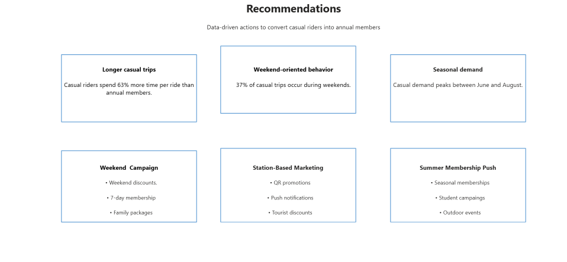

This screenshot's page, from the dashboard's own definition file:
{"tool":"powerbi","page":{"name":"Recommendations","canvas":[1280,720],"ordinal":3},"visuals":[{"type":"textbox","box":[287.9,0,727.7,89],"z":0},{"type":"textbox","box":[501.3,142.7,300.4,111.9],"z":1000},{"type":"textbox","box":[865.1,142.7,300.4,111.9],"z":2000},{"type":"textbox","box":[138.1,142.7,299.7,111.9],"z":3000},{"type":"textbox","box":[489.5,359.9,300.4,130.9],"z":3001},{"type":"textbox","box":[865.1,359.9,300.4,130.9],"z":3002},{"type":"textbox","box":[138.1,359.9,299.7,130.9],"z":3003},{"type":"shape","box":[138.1,123.7,299.7,149.9],"z":3004},{"type":"shape","box":[490.1,331.1,299.7,164.3],"z":3005},{"type":"shape","box":[138.1,336.4,299.7,159],"z":3006},{"type":"shape","box":[490.1,123.7,299.7,149.9],"z":3007},{"type":"shape","box":[865.8,123.7,299.7,149.9],"z":3008},{"type":"shape","box":[865.8,331.1,299.7,164.3],"z":3009}]}

Visuals, with their boxes on the page's 1280x720 design canvas (x1, y1, x2, y2). These are canvas units, not pixel positions in the 567x262 screenshot, which may show the page scaled, cropped or inside an application window:
textbox: crop(288, 0, 1016, 89)
textbox: crop(501, 143, 802, 255)
textbox: crop(865, 143, 1166, 255)
textbox: crop(138, 143, 438, 255)
textbox: crop(490, 360, 790, 491)
textbox: crop(865, 360, 1166, 491)
textbox: crop(138, 360, 438, 491)
shape: crop(138, 124, 438, 274)
shape: crop(490, 331, 790, 495)
shape: crop(138, 336, 438, 495)
shape: crop(490, 124, 790, 274)
shape: crop(866, 124, 1166, 274)
shape: crop(866, 331, 1166, 495)
